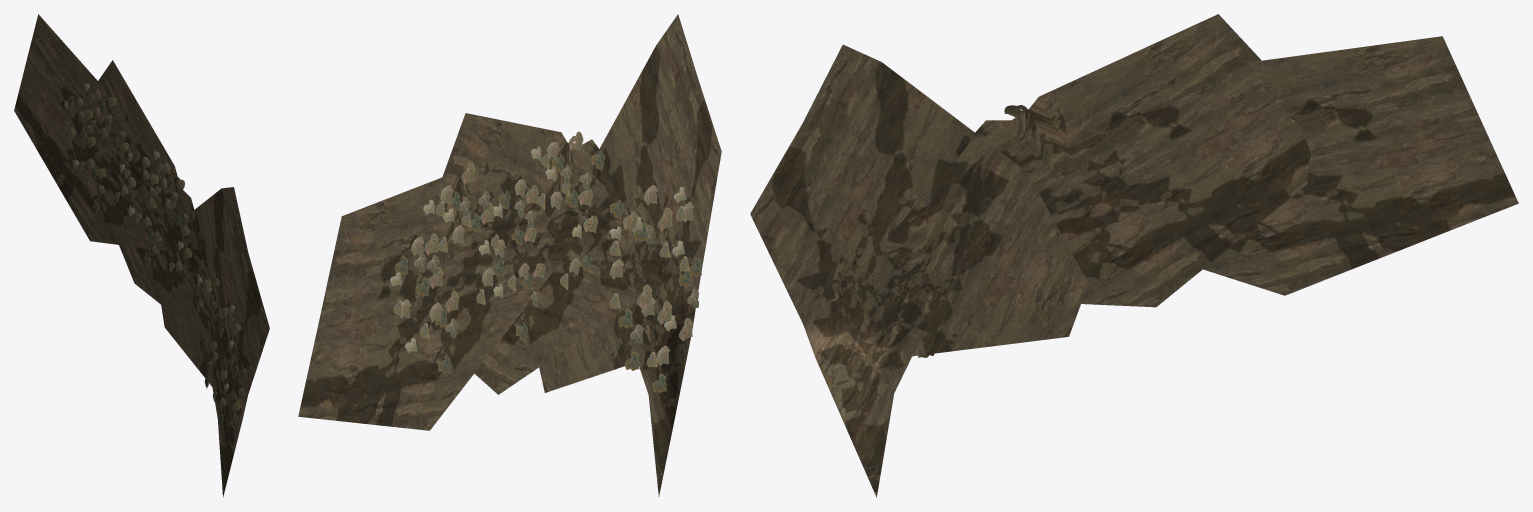
Rendered from SM_Ivy_7.fbx.
3 views of the same model, side by side, from view 1: azimuth 30°, elevation 25°; view 2: azimuth 150°, elevation 25°; view 3: azimuth 270°, elevation 25° (orthographic). The views are drawn at different scales.
Visible parts, largest first — view 1: SM_Ivy_7_LOD0; view 2: SM_Ivy_7_LOD0; view 3: SM_Ivy_7_LOD0.
Boxes of the visible parts, <box> form: SM_Ivy_7_LOD0: <box>14,14,269,497</box>; SM_Ivy_7_LOD0: <box>298,14,721,496</box>; SM_Ivy_7_LOD0: <box>750,14,1518,497</box>.
Size of the model in its own units: 20.38 by 400 by 282.
